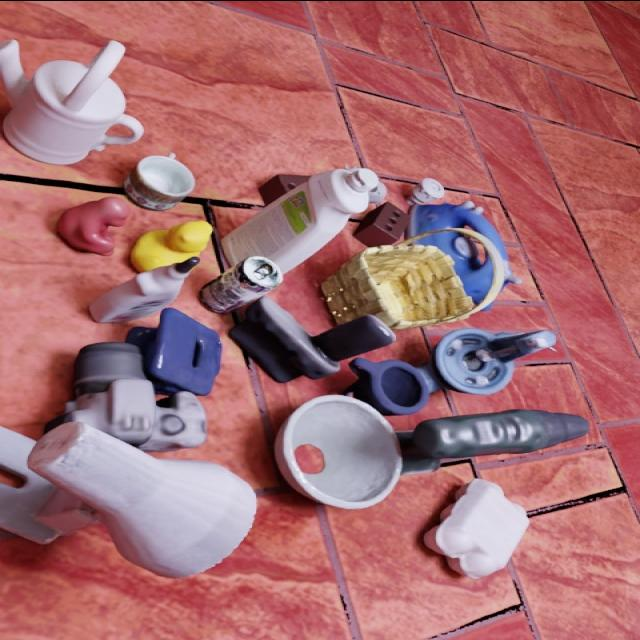Other Objects: (223, 167, 383, 281), (1, 39, 144, 163), (231, 295, 395, 381), (276, 396, 401, 507), (399, 408, 589, 471), (424, 478, 529, 577), (127, 307, 223, 394), (435, 327, 556, 393), (89, 255, 200, 321), (347, 356, 431, 414), (57, 196, 131, 254), (132, 219, 212, 271), (124, 153, 195, 209), (355, 200, 409, 245), (408, 177, 445, 203)
Vials: (201, 255, 283, 311)
